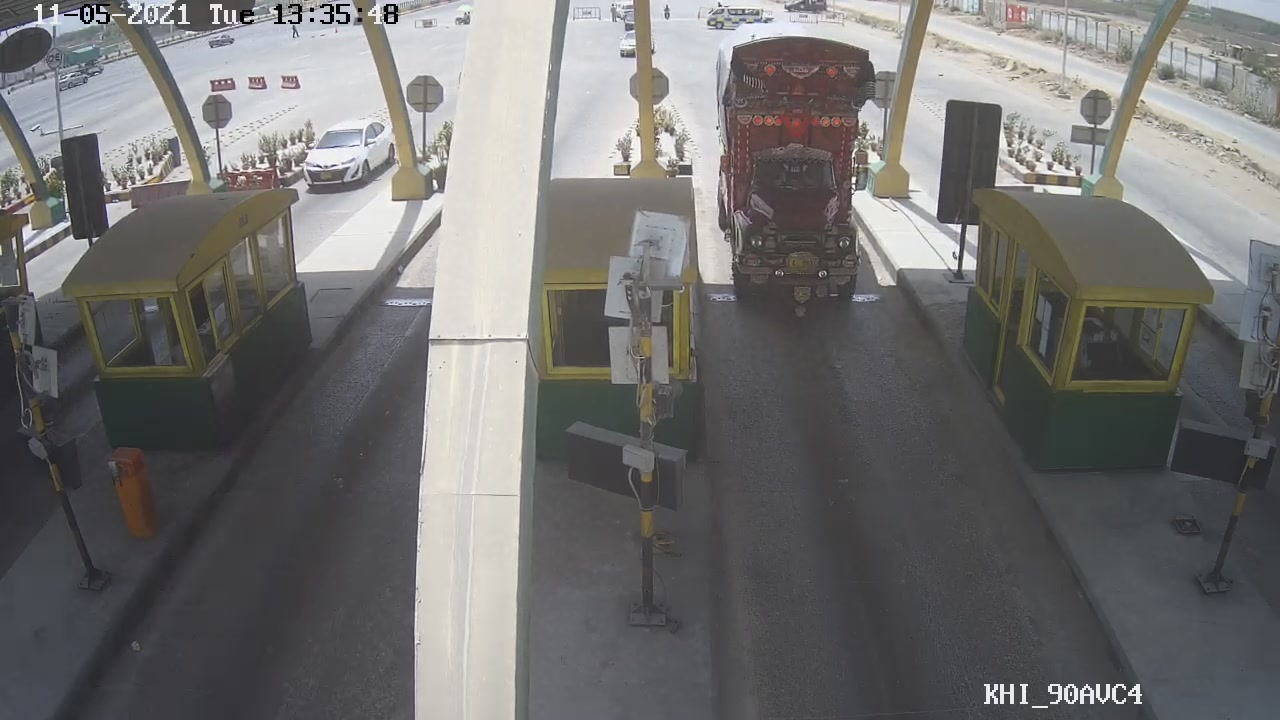F5: (704, 23, 884, 315)
